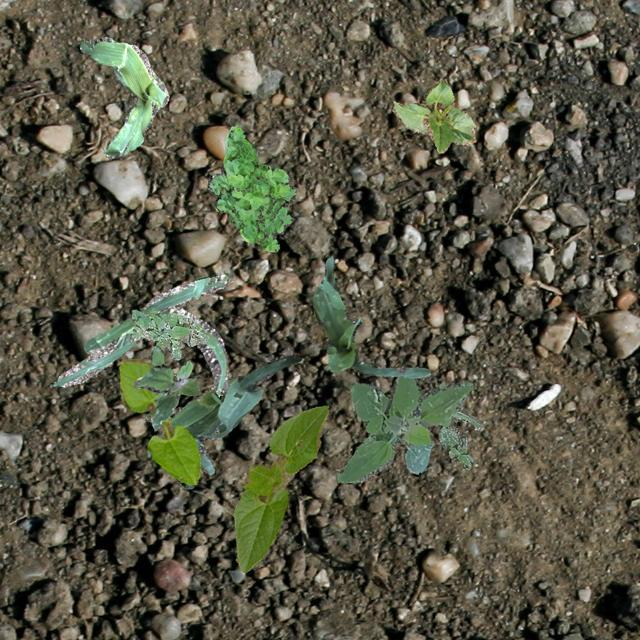crop: (52, 272, 230, 396), (144, 352, 304, 488), (232, 404, 328, 572), (310, 255, 430, 378), (78, 36, 168, 158), (118, 358, 200, 483), (390, 76, 474, 152)
weed: (336, 374, 472, 482), (207, 124, 296, 250), (132, 344, 198, 430), (130, 308, 208, 358), (438, 382, 482, 468)
